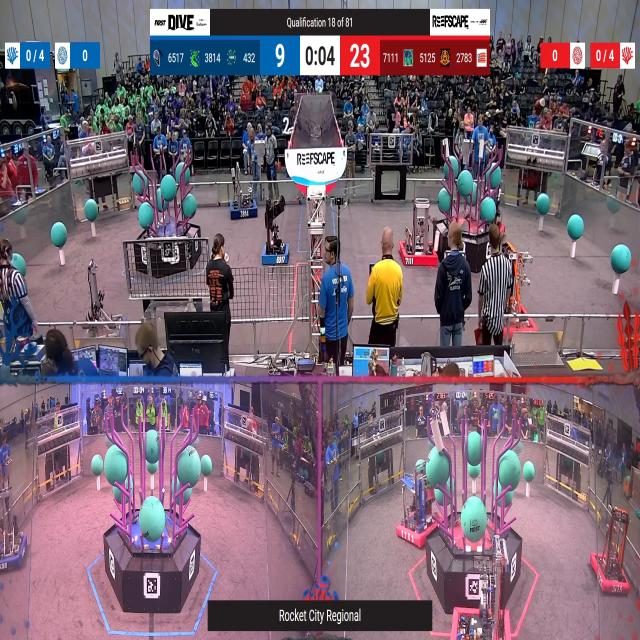scoreboard: (150, 36, 490, 76)
